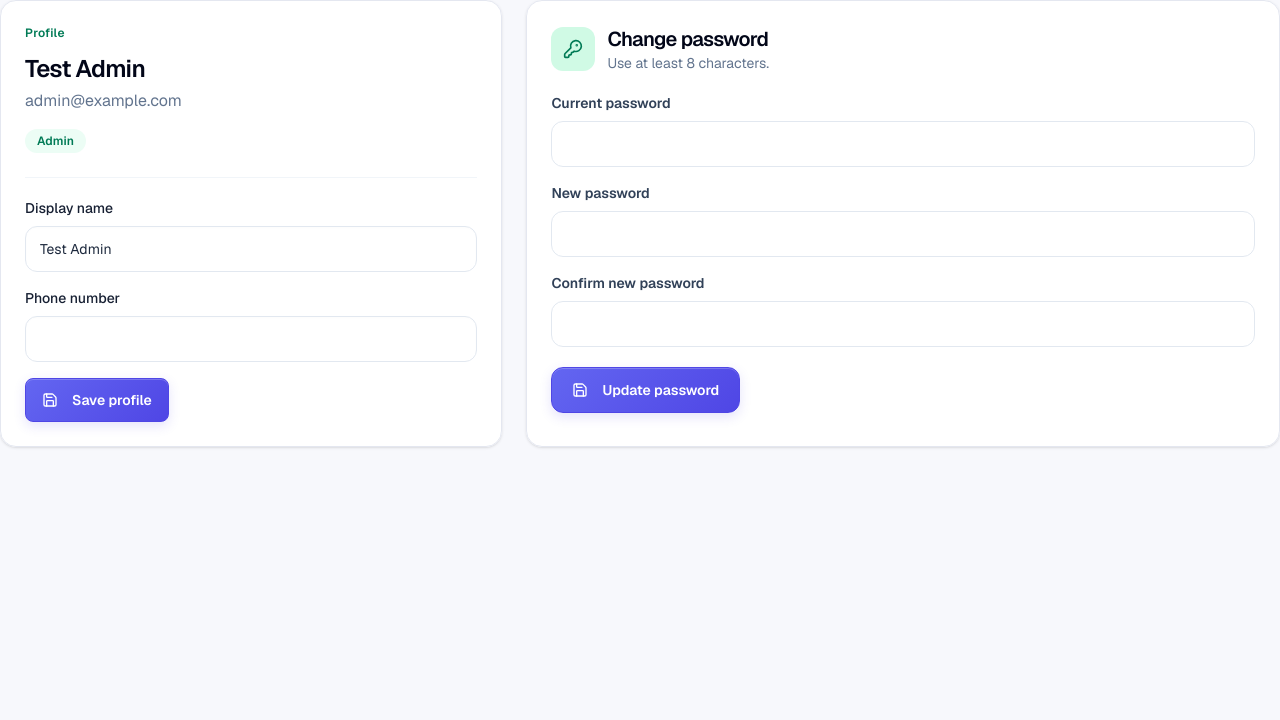
account and provider management › prevents a mismatched password confirmation
Step 1. Type "Current@123" into the password field labelled "Current password" → (903,144), box [551, 121, 1255, 167]
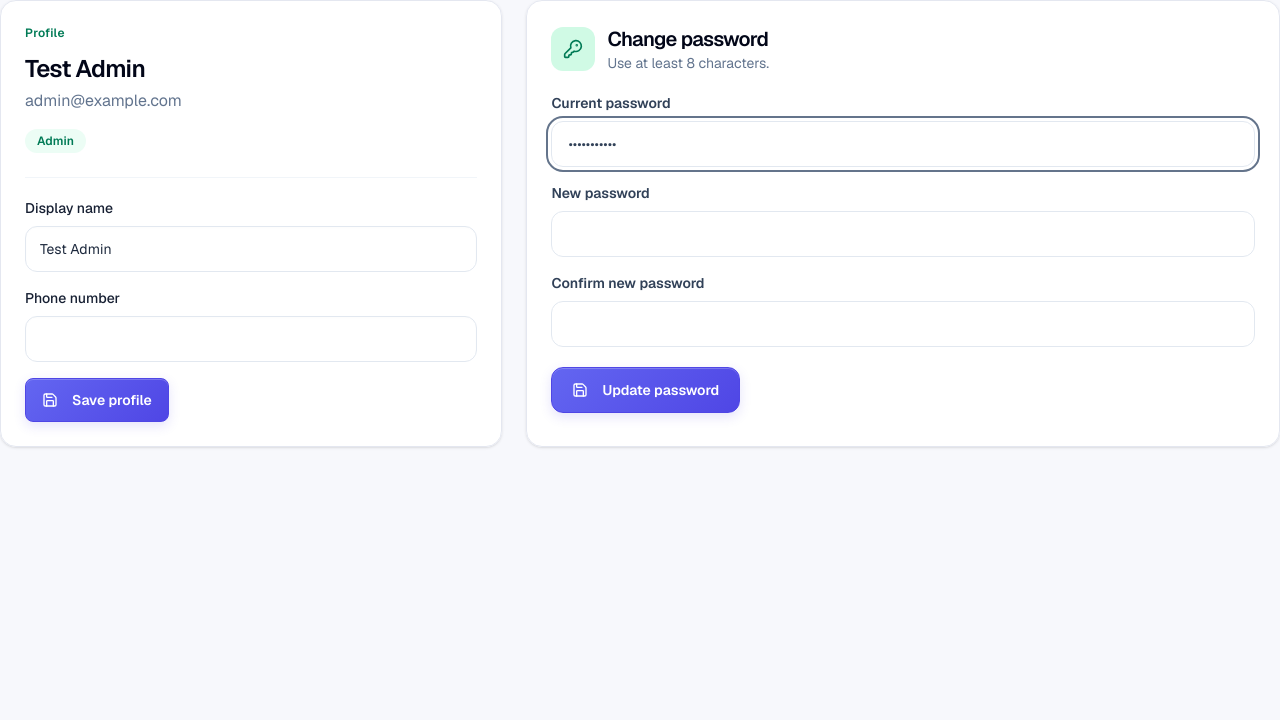
Step 2. Type "Changed@123" into the password field labelled "New password" → (903,234), box [551, 211, 1255, 257]
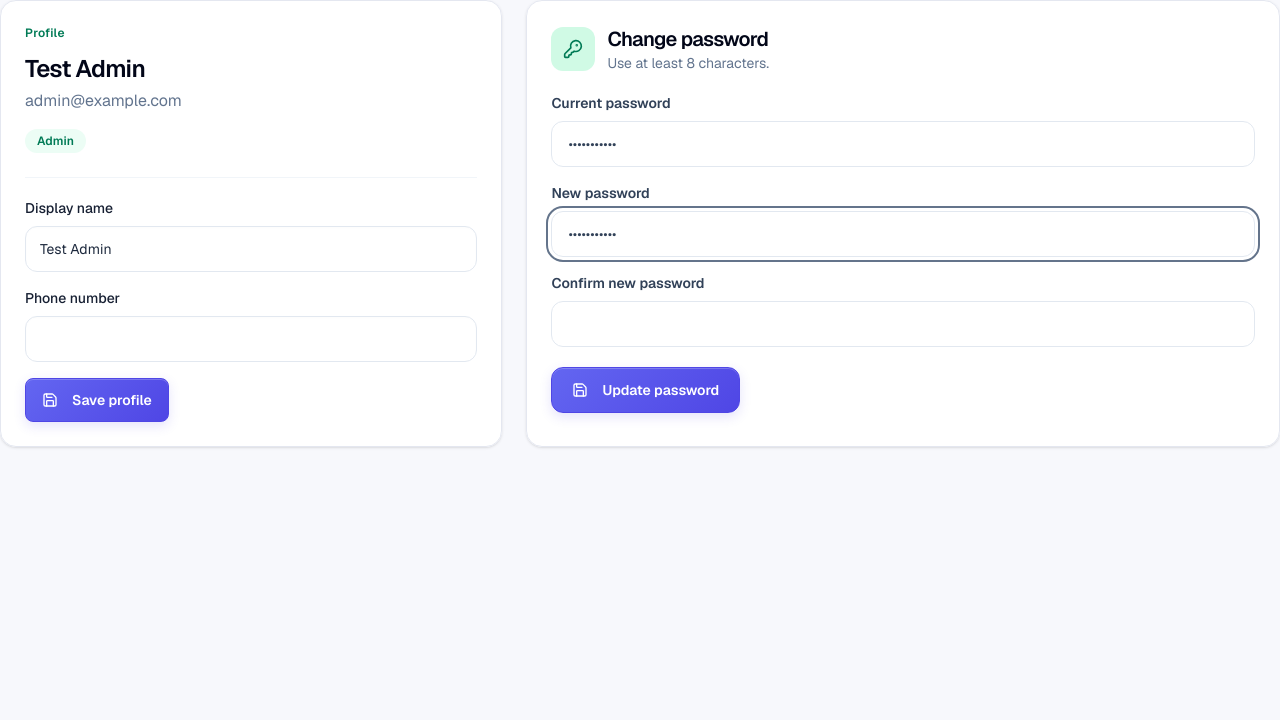
Step 3. Type "Mismatch@123" into the password field labelled "Confirm new password" → (903,324), box [551, 301, 1255, 347]
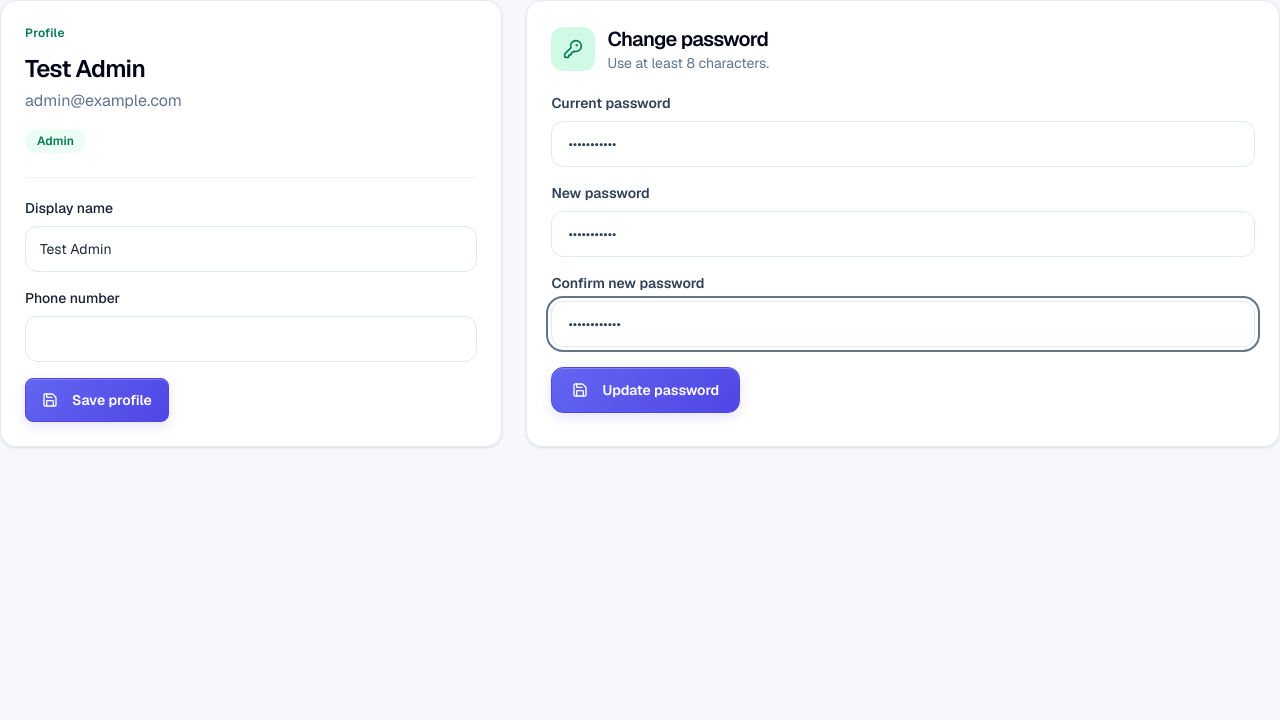
Step 4. Click the button "Update password" → (646,390), box [551, 367, 740, 413]
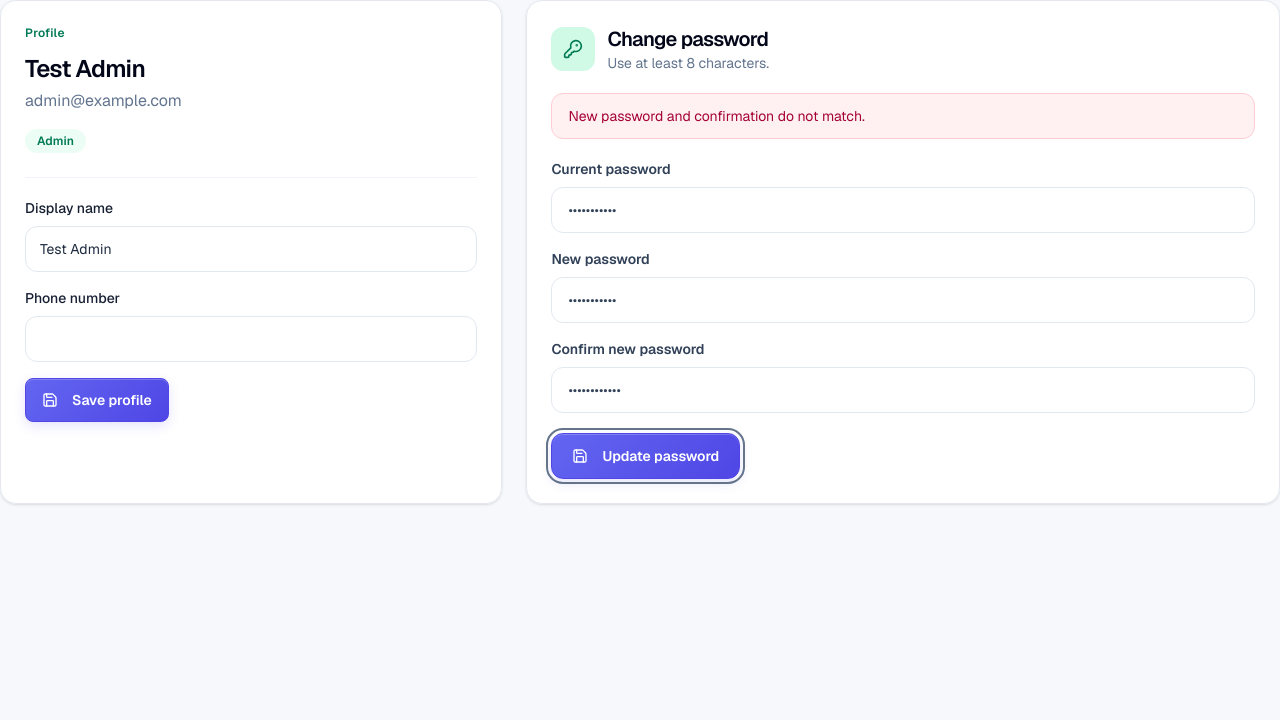
Now the text "New password and confirmation do not match." is shown, box [551, 93, 1255, 139]
